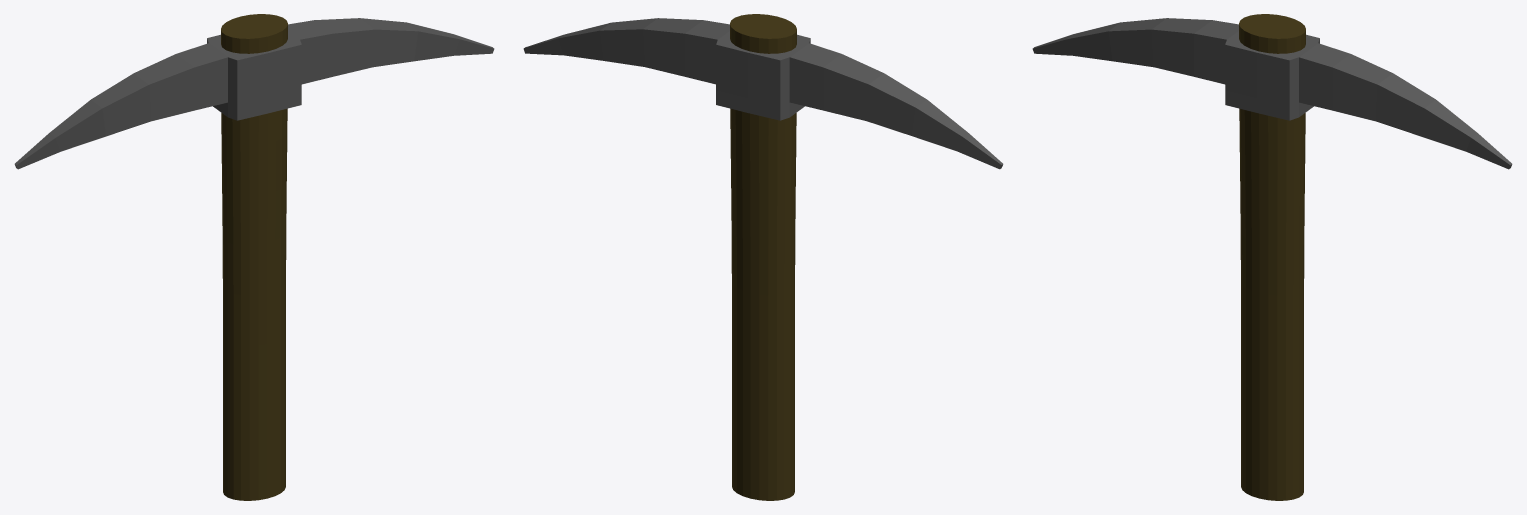
The model's file is pickaxe.glb.
The picture shows the model from 3 angles, left to right: view 1: azimuth 30°, elevation 25°; view 2: azimuth 150°, elevation 25°; view 3: azimuth 330°, elevation 25°; orthographic projection.
Visible parts, largest first — view 1: Cylinder; view 2: Cylinder; view 3: Cylinder.
Part boxes in pixels (box(x1,y1,x2,y2)): Cylinder: box(14, 14, 494, 500); Cylinder: box(523, 14, 1003, 500); Cylinder: box(1032, 14, 1512, 500).
Bounding box in the file's own units: 1.49 × 1.38 × 0.167.
Materials: 1 (1 with a texture image).
